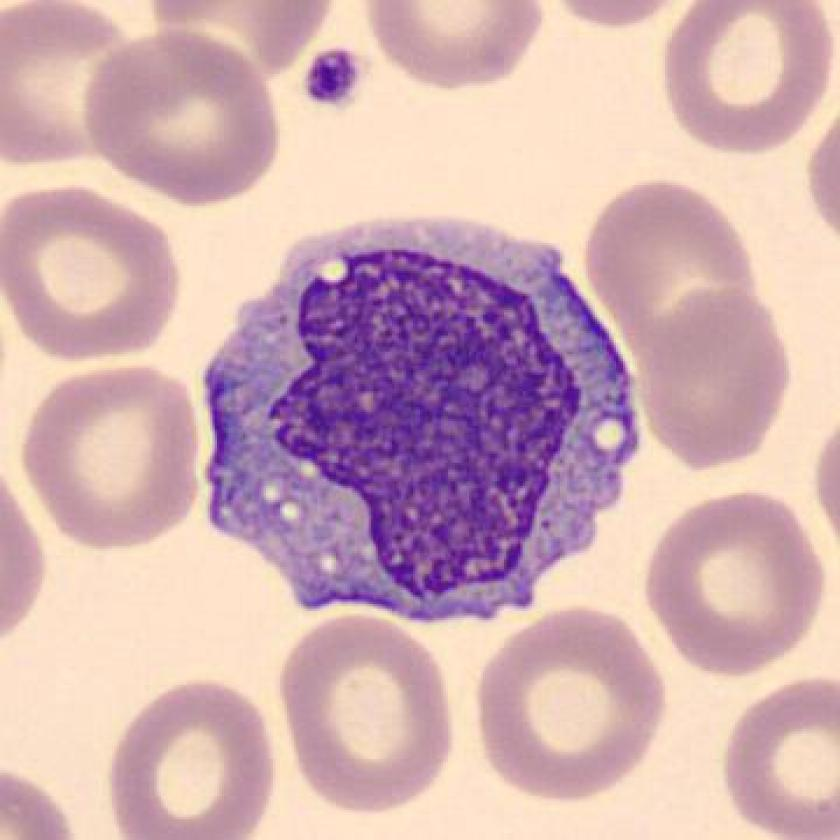monocyte: (174, 196, 664, 645)
